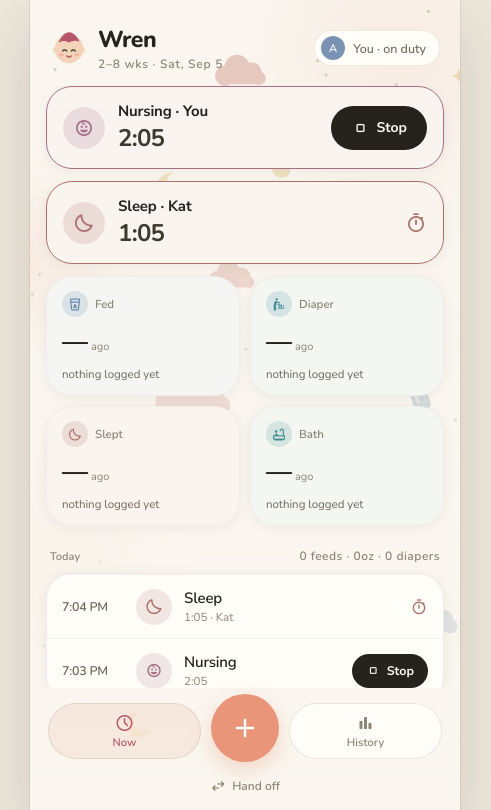
Test: multi-timer rows › one tap on my top card stops that timer by id and logs the entry
expect the text "Nursing · You" is shown: met, box [118,101,208,121]
Click the 1st text "Stop" at point(392, 128), box [376,118,407,137]
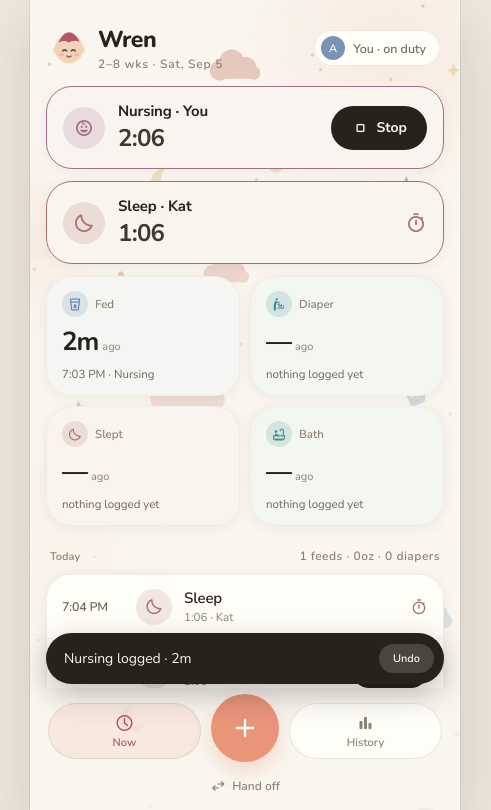
expect the text "Sleep · Kat" is shown: met, box [118,196,192,216]
expect the text "Nursing logged · 2m" is shown: met, box [64,649,192,668]
